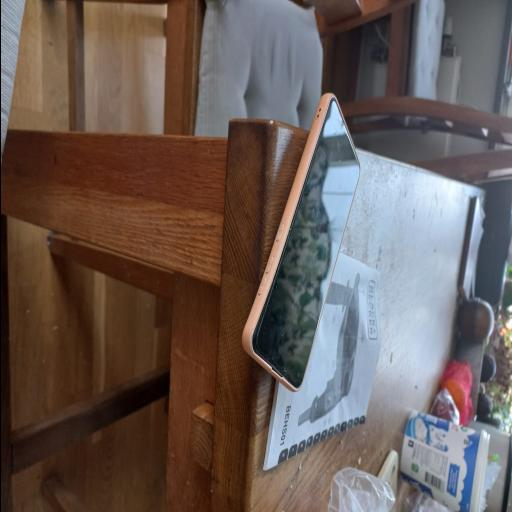phone: (242, 94, 358, 390)
